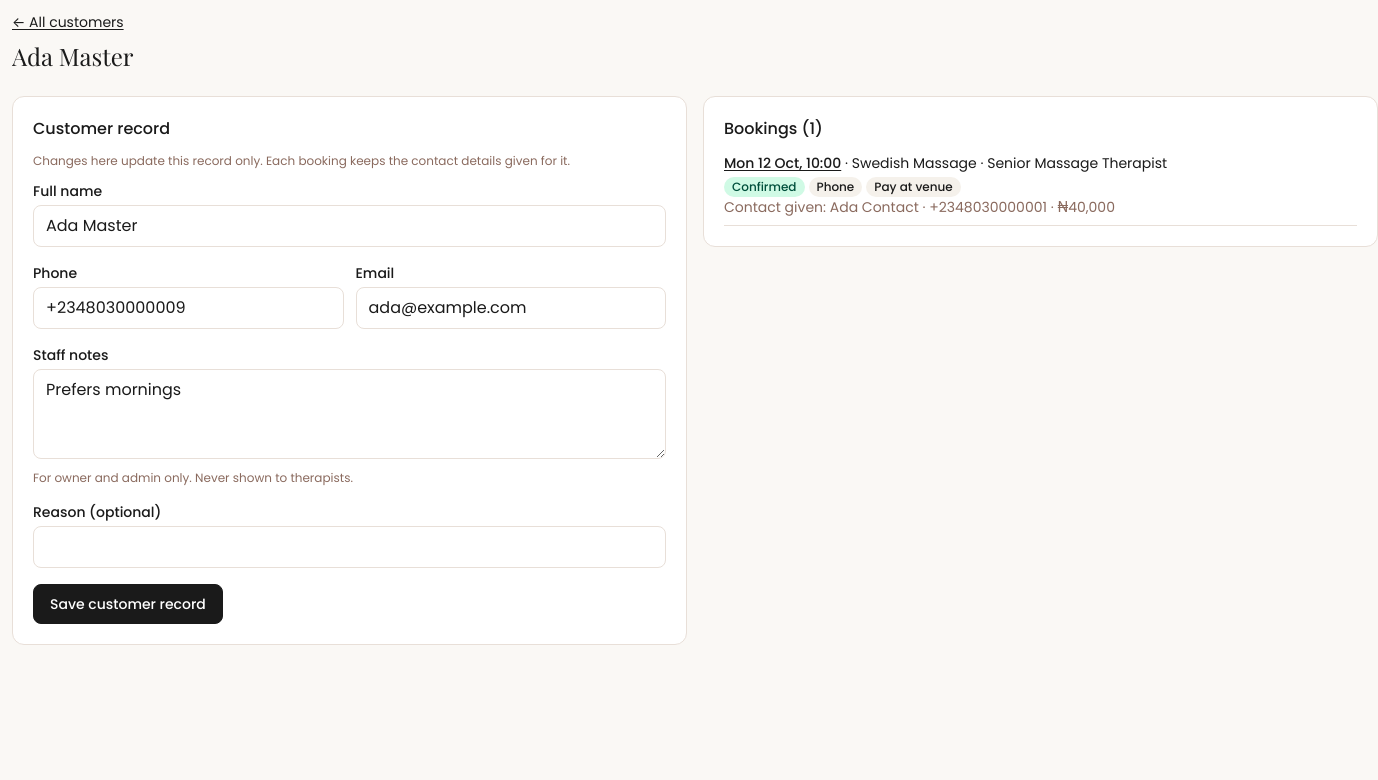
it: customers › the customer record is edited with its version, apart from booking contacts
Check: the text "Each booking keeps the contact details given for it" is shown, box [33,152,570,169]
Check: the text "Contact given: Ada Contact · +2348030000001 · ₦40,000" is shown, box [724,197,1115,217]
Replace the text in the text box labelled "Staff notes" with "VIP". click: coordinates (350, 414)
box: [33,369,666,459]
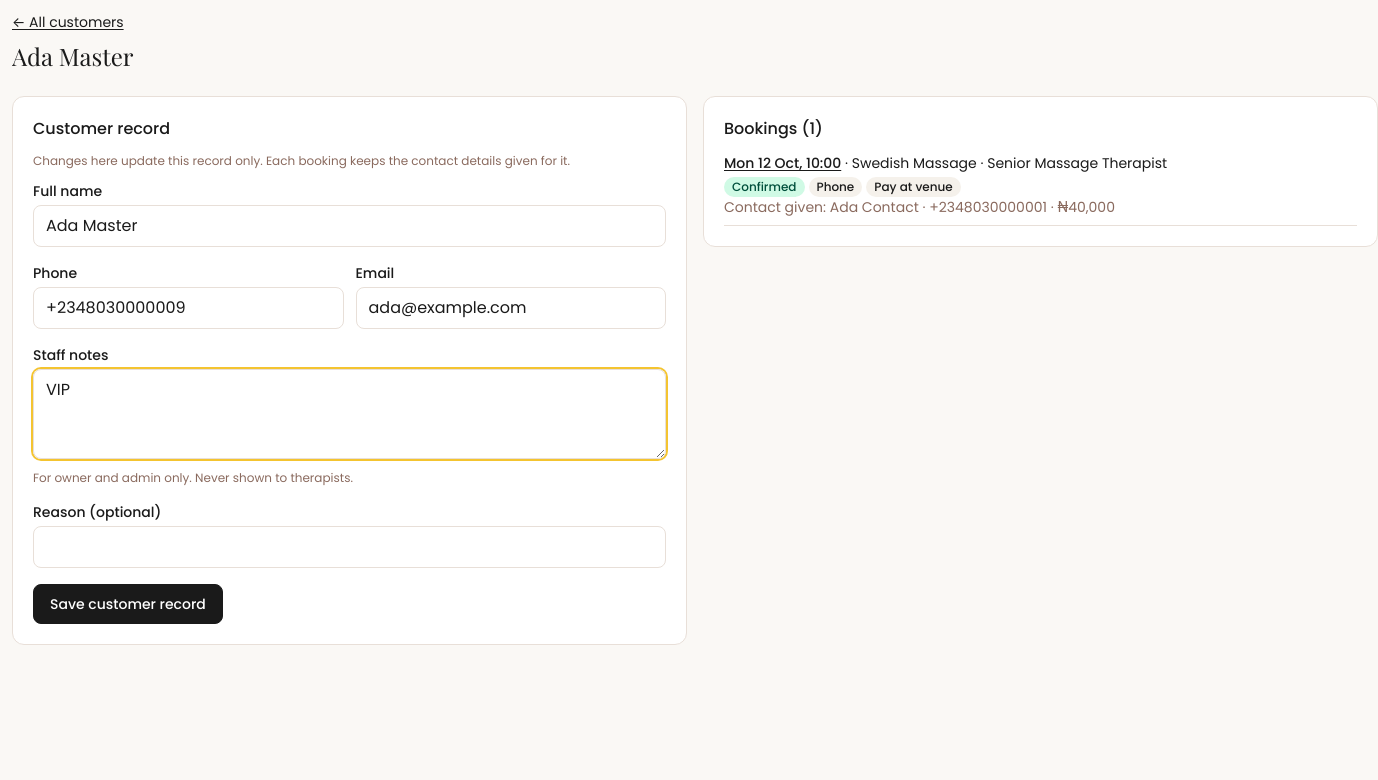
Click the button "Save customer record". click: coordinates (128, 604)
box: [33,584,223,624]
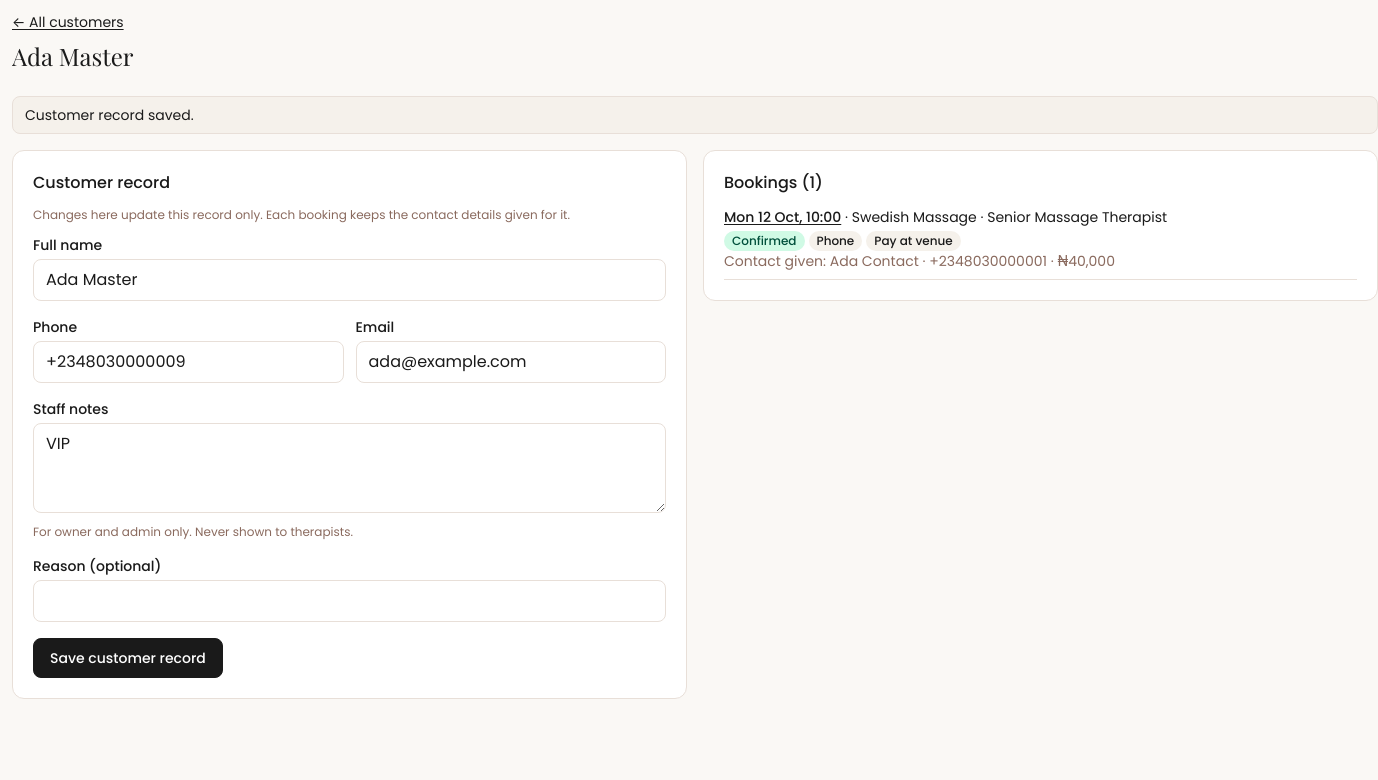
Check: the text "Customer record saved." is shown, box [12,96,1377,134]
